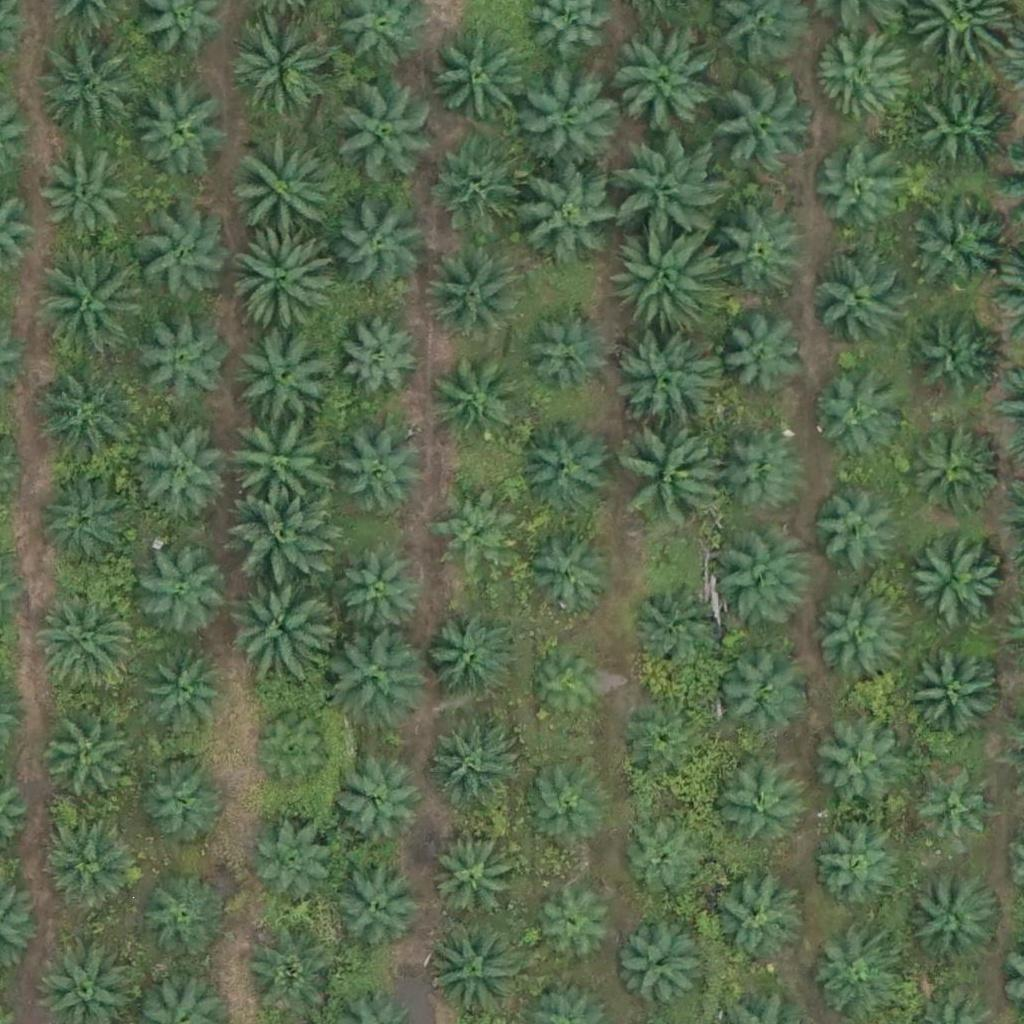Kelapa_Sawit: (330, 75, 443, 189), (611, 132, 724, 245), (36, 29, 149, 142), (35, 251, 148, 364), (894, 191, 1006, 304), (608, 225, 720, 338), (229, 226, 341, 339), (36, 368, 136, 469), (37, 585, 137, 686), (43, 816, 143, 917), (128, 419, 228, 520), (229, 419, 329, 520), (227, 572, 327, 673), (330, 628, 430, 729), (623, 430, 723, 531), (630, 578, 730, 679), (703, 874, 803, 975), (808, 711, 908, 812), (903, 645, 1003, 746), (905, 526, 1005, 627), (901, 417, 1001, 518), (915, 83, 1015, 184), (807, 251, 907, 352), (813, 140, 913, 241), (713, 79, 813, 180), (710, 201, 810, 302), (612, 27, 712, 128), (519, 71, 619, 172), (430, 28, 530, 129), (237, 321, 337, 422), (131, 308, 231, 409), (135, 204, 235, 305), (130, 82, 230, 183), (37, 141, 137, 242), (234, 490, 334, 590), (513, 421, 613, 521), (520, 525, 620, 625), (713, 532, 813, 632), (614, 333, 714, 433), (524, 170, 624, 270), (423, 245, 523, 345), (430, 137, 530, 237), (227, 18, 327, 118), (231, 133, 331, 233), (429, 617, 517, 706), (44, 485, 132, 573), (138, 756, 226, 844), (139, 876, 227, 964), (253, 820, 341, 908), (246, 934, 334, 1022), (339, 552, 427, 640), (331, 763, 419, 851), (335, 864, 423, 952), (432, 360, 520, 448), (432, 487, 520, 575), (429, 723, 517, 811), (625, 702, 713, 790), (715, 429, 803, 517), (716, 650, 804, 738), (712, 762, 800, 850), (813, 487, 901, 575), (813, 594, 901, 682), (810, 827, 898, 915), (912, 871, 1000, 959), (908, 312, 996, 400), (815, 35, 903, 123), (519, 313, 607, 401), (141, 642, 228, 731), (906, 764, 993, 853), (43, 714, 130, 802), (141, 552, 228, 640), (247, 711, 334, 799), (336, 431, 423, 519), (432, 837, 519, 925), (534, 879, 621, 967), (522, 756, 609, 844), (621, 819, 708, 907), (620, 928, 707, 1016), (809, 934, 896, 1022), (806, 376, 893, 464), (717, 308, 804, 396), (337, 203, 424, 291), (338, 311, 425, 399), (532, 650, 607, 726)
